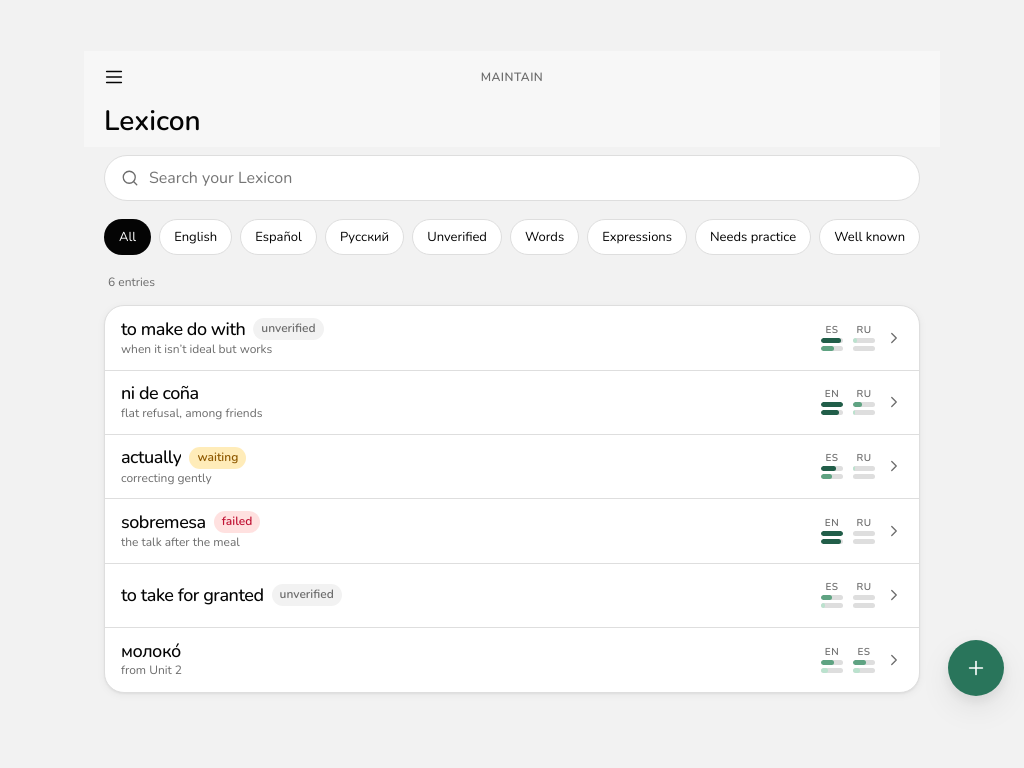
Test: the Lexicon › filters to the entries nobody has reviewed
expect the button "ni de coña flat refusal, among friends EN RU" is shown: met, box [105,371,919,435]
Click the button "Unverified" at {"x": 457, "y": 237}, box [412,215,502,259]
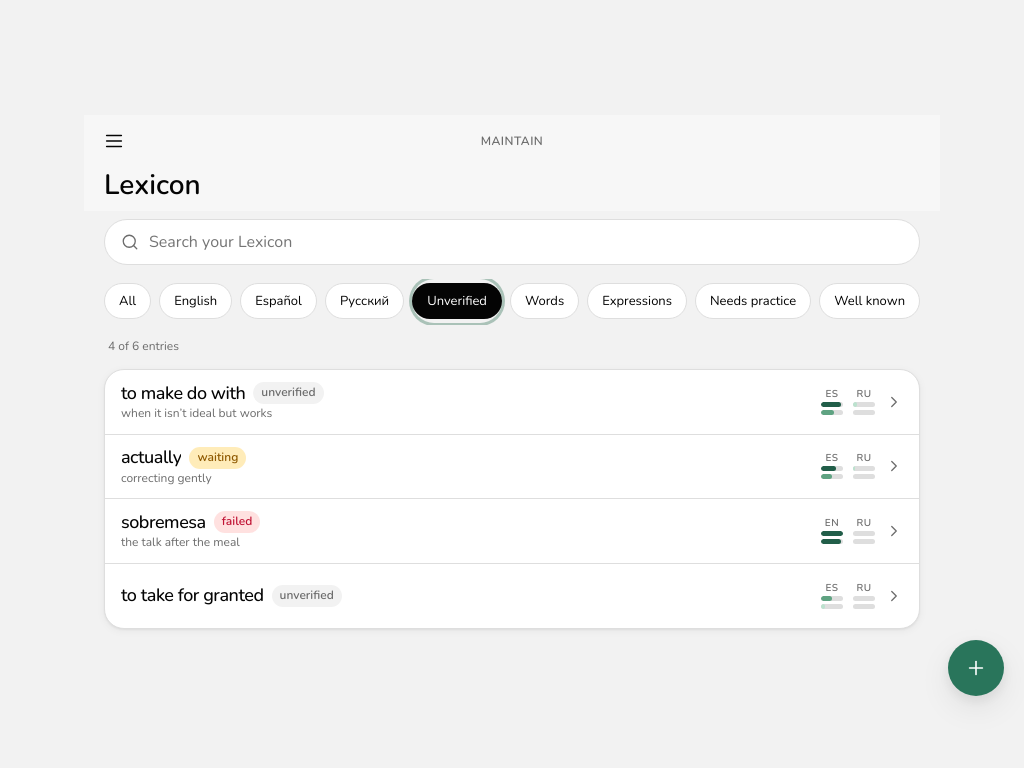
expect the button "ni de coña" is gone: met
